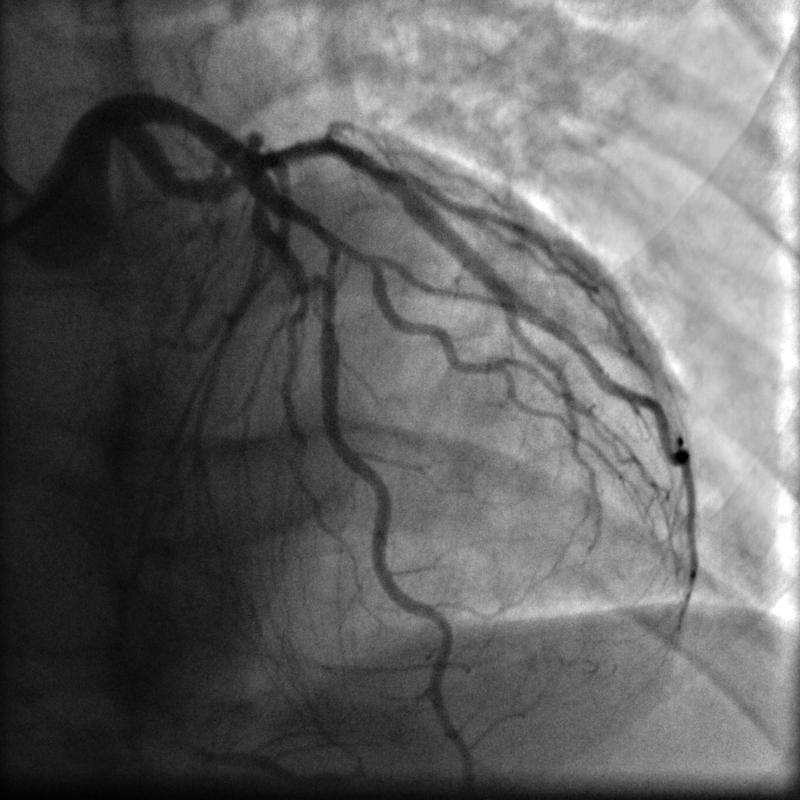Stenosis: (319, 240, 344, 300)
